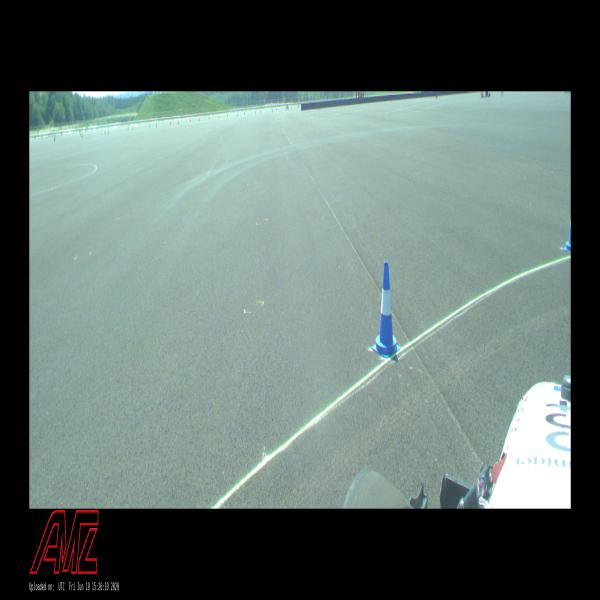blue_cone: (372, 261, 400, 358), (563, 219, 571, 251)
